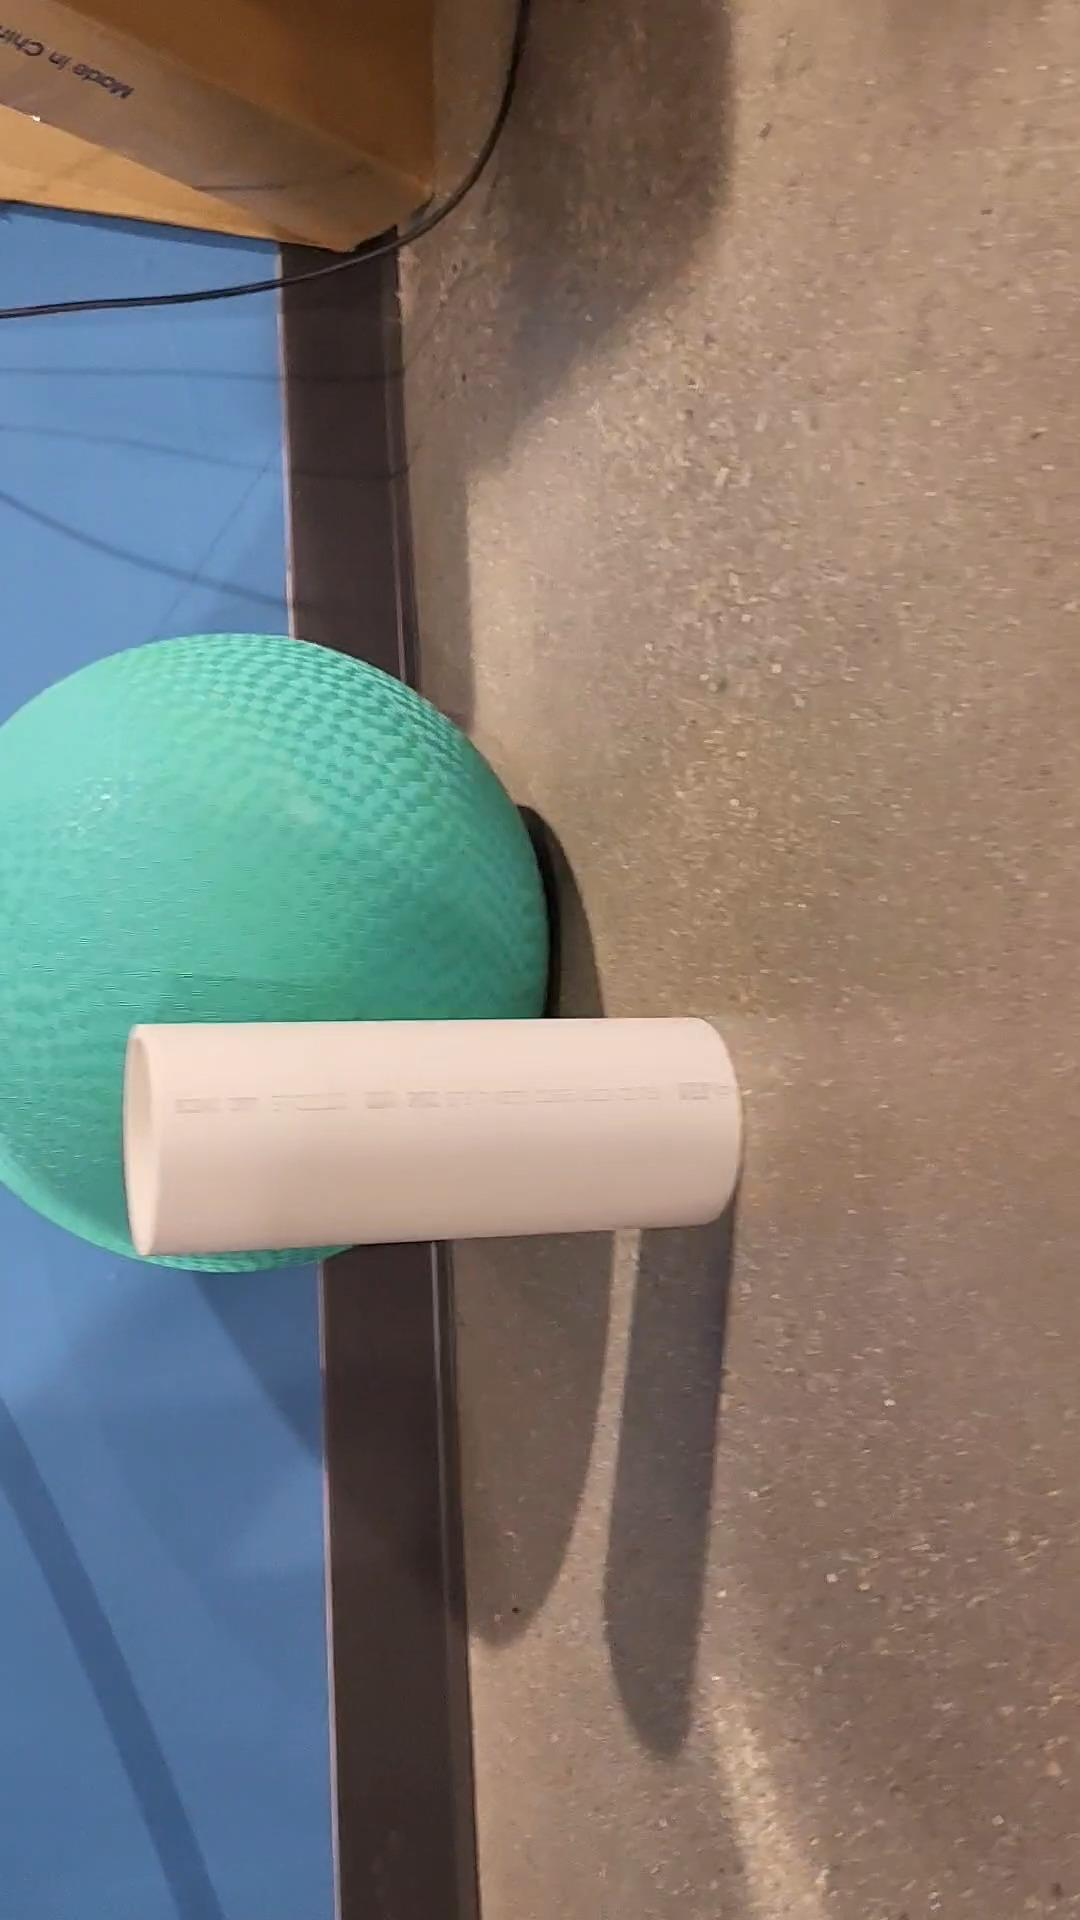algae: (0, 630, 560, 1270)
coral: (123, 1021, 745, 1255)
